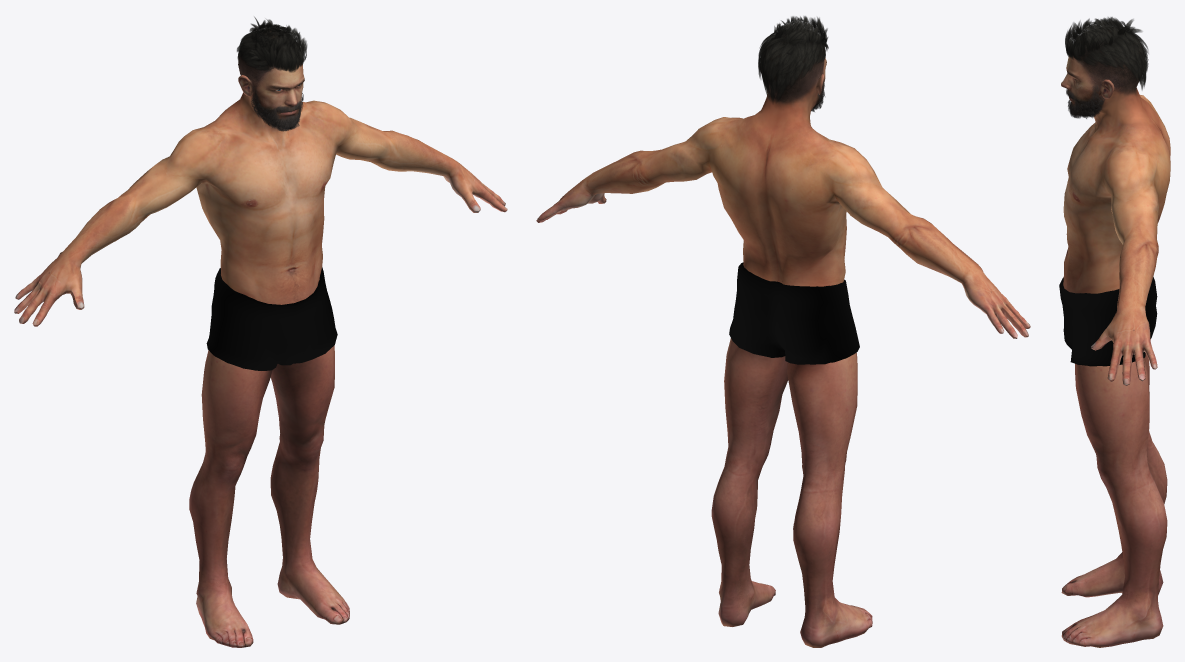
File: man_base_mesh_2k.glb
The picture shows the model from 3 angles, left to right: view 1: azimuth 30°, elevation 25°; view 2: azimuth 150°, elevation 25°; view 3: azimuth 270°, elevation 25°; orthographic projection.
Parts seen in each view (by area): view 1: Object_4, Object_2, Object_9, Object_5, Object_8, Object_10; view 2: Object_4, Object_2, Object_6, Object_7, Object_10; view 3: Object_4, Object_2, Object_7, Object_11, Object_6, Object_5, Object_10, Object_8, Object_9, Object_3.
Part boxes in pixels (bbox=[...]): Object_4: bbox=[14, 28, 507, 647]; Object_2: bbox=[206, 267, 337, 370]; Object_9: bbox=[250, 24, 307, 71]; Object_5: bbox=[251, 86, 303, 131]; Object_8: bbox=[249, 25, 303, 70]; Object_10: bbox=[240, 17, 302, 65]; Object_4: bbox=[536, 30, 1030, 647]; Object_2: bbox=[729, 262, 859, 364]; Object_6: bbox=[758, 33, 828, 102]; Object_7: bbox=[758, 18, 824, 102]; Object_10: bbox=[759, 18, 822, 64]; Object_4: bbox=[1061, 28, 1170, 647]; Object_2: bbox=[1059, 277, 1157, 366]; Object_7: bbox=[1065, 20, 1148, 73]; Object_11: bbox=[1067, 21, 1130, 67]; Object_6: bbox=[1087, 31, 1148, 90]; Object_5: bbox=[1066, 85, 1105, 118]; Object_10: bbox=[1069, 17, 1139, 59]; Object_8: bbox=[1066, 18, 1112, 59]; Object_9: bbox=[1066, 18, 1125, 60]; Object_3: bbox=[1074, 78, 1155, 384].
Bounding box in the file's own units: 160 × 189 × 31.78.
Materials: 4 (3 with a texture image).
